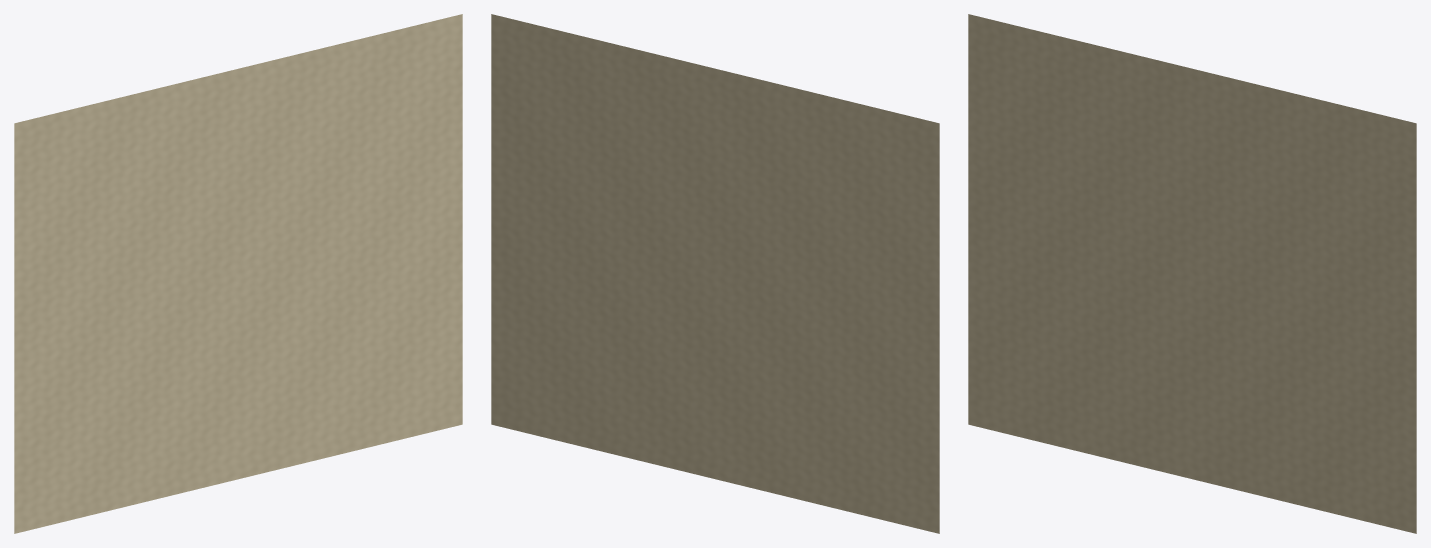
File: SPN_Wall.fbx
3 views of the same model, side by side, from view 1: azimuth 30°, elevation 25°; view 2: azimuth 150°, elevation 25°; view 3: azimuth 330°, elevation 25° (orthographic).
Visible parts, largest first — view 1: SPN_Wall; view 2: SPN_Wall; view 3: SPN_Wall.
Part boxes in pixels (x1,y1,x2,y2): SPN_Wall: (14, 14, 462, 533); SPN_Wall: (491, 14, 939, 533); SPN_Wall: (968, 14, 1416, 533).
Size of the model in its own units: 4 by 3.5e-07 by 3.5.
Materials: 1 (1 with a texture image).
